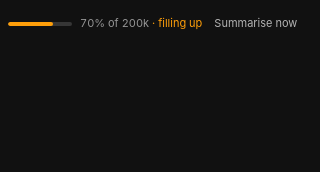
Test case: the context meter › offers Summarise now once it fills, and says what the summary freed
Later steps or results of the test are not shown.
Click the button "Summarise now": (256, 24) [210,16,301,31]
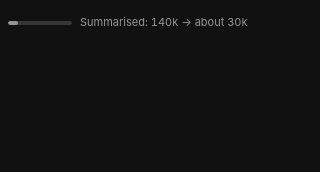
Check: the text "Summarised: 140k → about 30k" is shown, box [80,16,248,29]
